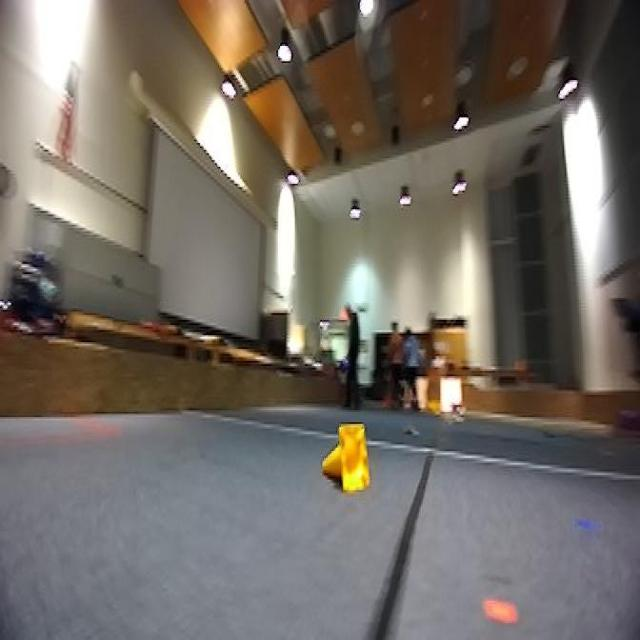frc_cone: (318, 417, 374, 494)
